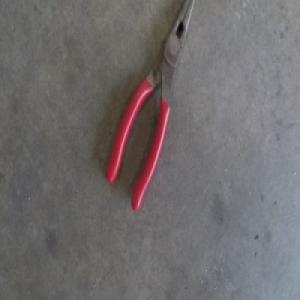Pliers: (104, 0, 193, 210)
